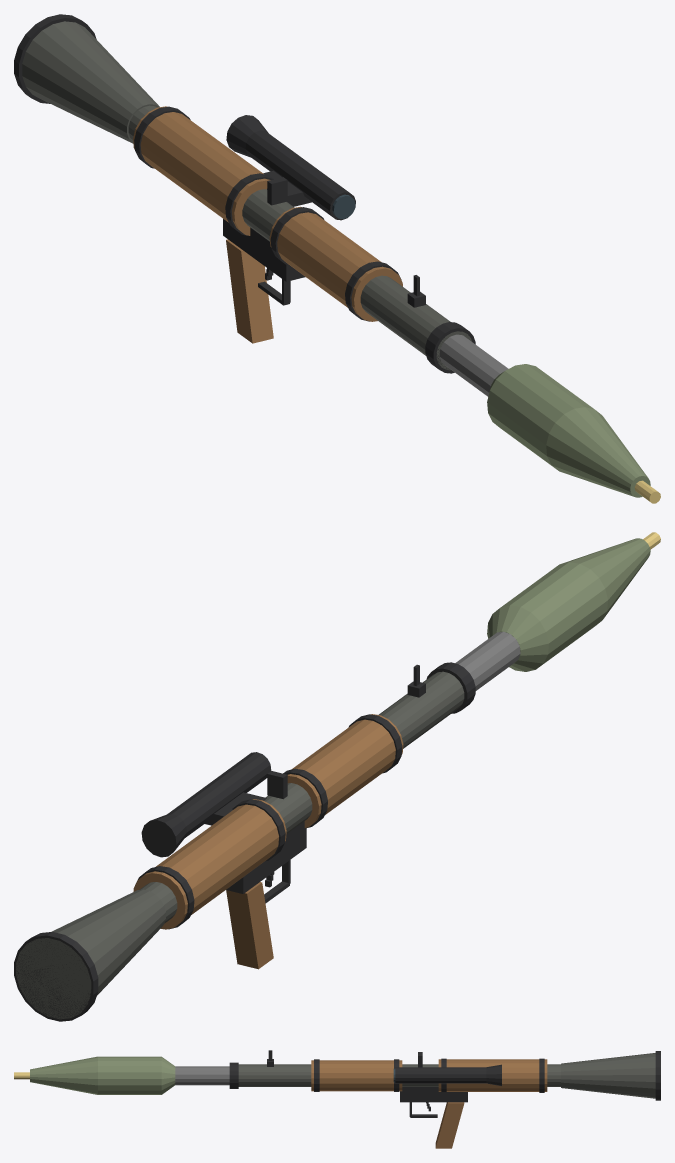
File: RPG.glb
3 views of the same model, one above another, from view 1: azimuth 30°, elevation 25°; view 2: azimuth 150°, elevation 25°; view 3: azimuth 270°, elevation 25° (orthographic). The views are drawn at different scales.
Visible parts, largest first — view 1: Body, Rocket; view 2: Body, Rocket; view 3: Body, Rocket.
Part boxes in pixels (bbox=[...]): Body: bbox=[14, 14, 475, 373]; Rocket: bbox=[439, 334, 660, 503]; Body: bbox=[14, 662, 475, 1021]; Rocket: bbox=[455, 532, 660, 690]; Body: bbox=[229, 1050, 660, 1148]; Rocket: bbox=[14, 1056, 229, 1094].
Bounding box in the file's own units: 0.1974 × 0.3355 × 2.07.
